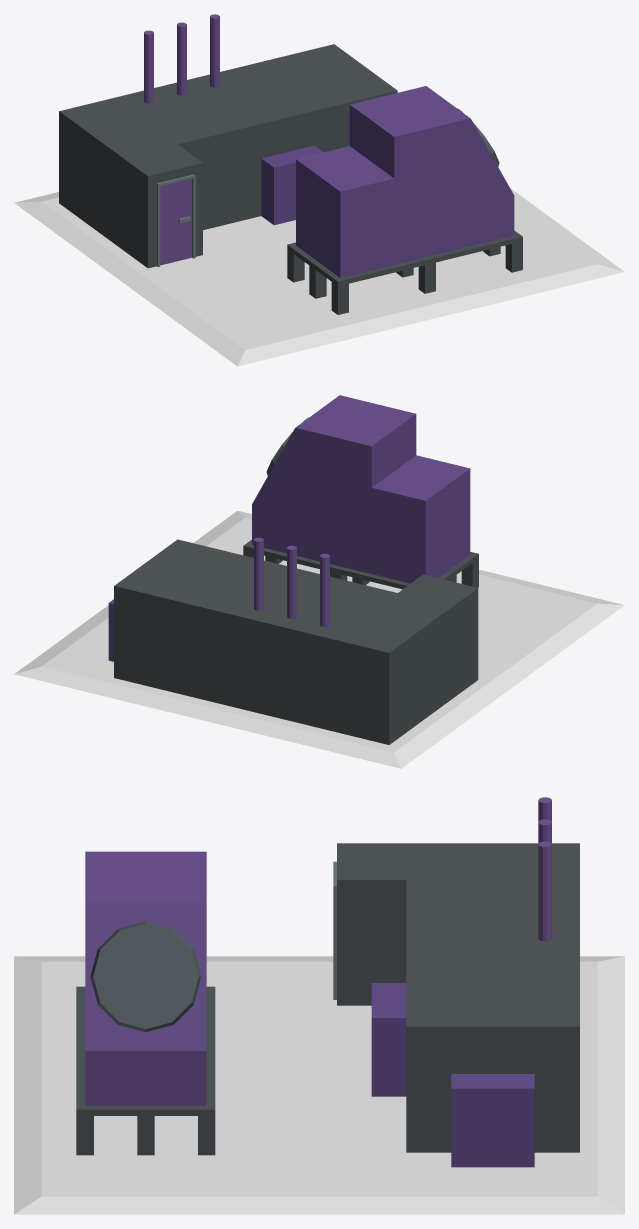
The model's file is MSI-IntelCentre.fbx.
3 views of the same model, one above another, from view 1: azimuth 30°, elevation 25°; view 2: azimuth 150°, elevation 25°; view 3: azimuth 270°, elevation 25° (orthographic). The views are drawn at different scales.
Visible parts, largest first — view 1: Intelligence Centre; view 2: Intelligence Centre; view 3: Intelligence Centre.
Part boxes in pixels (box(x1,y1,x2,y2)): Intelligence Centre: box(14, 14, 624, 366); Intelligence Centre: box(14, 395, 624, 768); Intelligence Centre: box(14, 797, 624, 1214).
Bounding box in the file's own units: 880 × 360 × 880.
